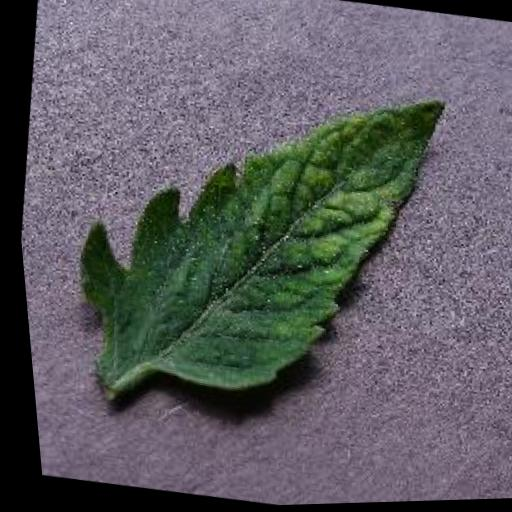Mosaic Virus: (38, 40, 466, 426)
